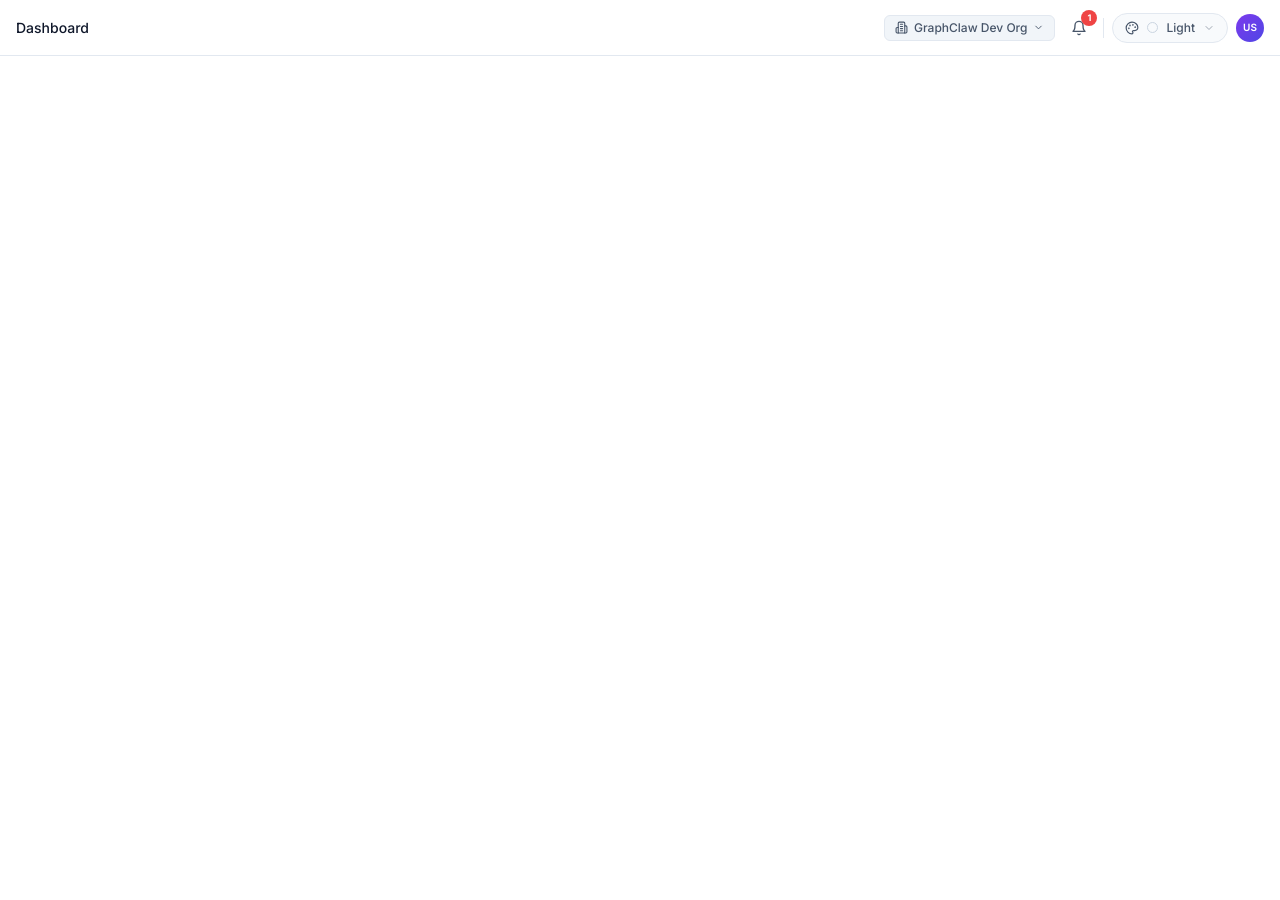
Test case: Topbar › renders notification items from API
Step 1. Click the button with test id "notification-bell" → (1080, 28), box [1064, 12, 1096, 44]
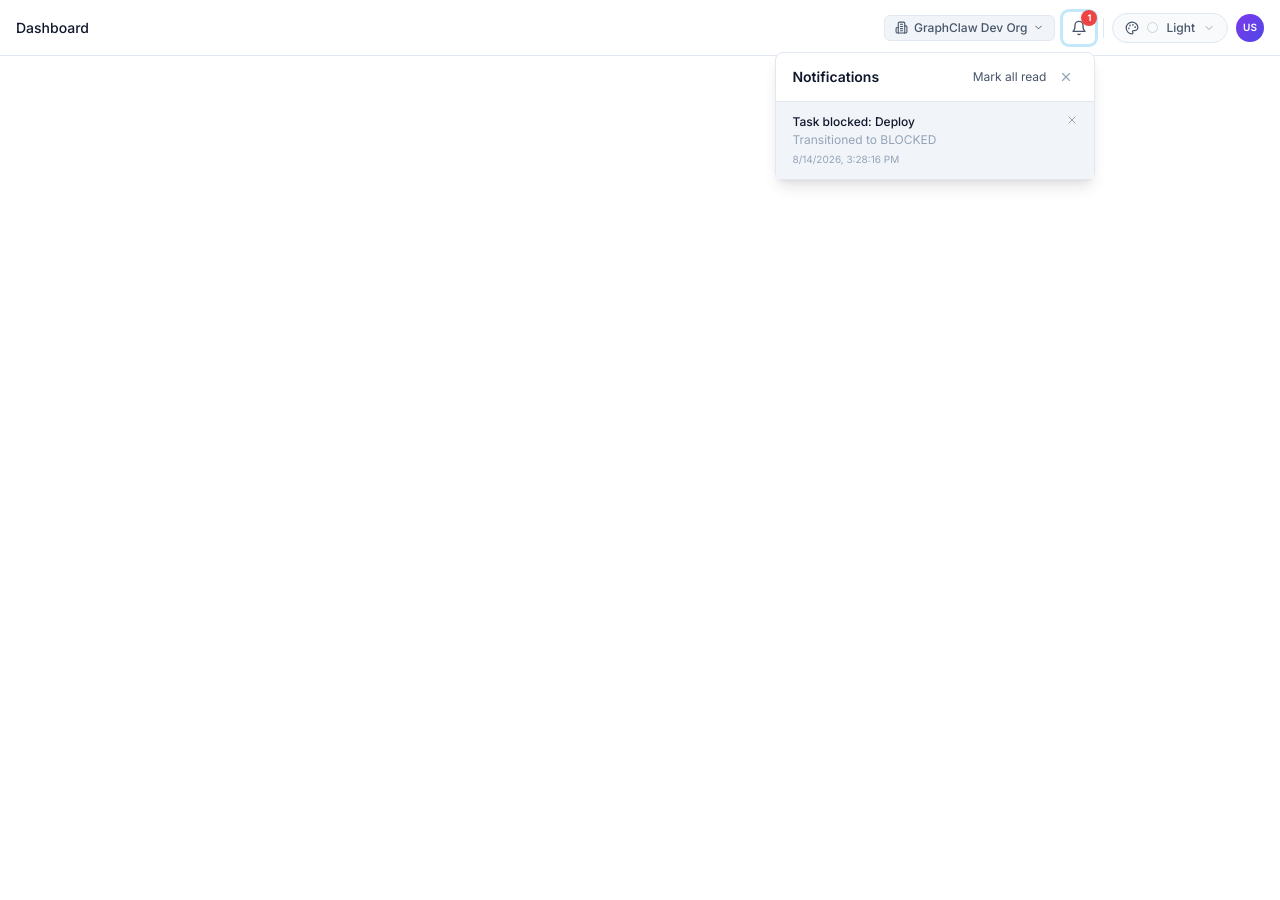
Now the text "Task blocked: Deploy" is shown, box [792, 114, 915, 128]
Now the text "Transitioned to BLOCKED" is shown, box [792, 132, 936, 146]
